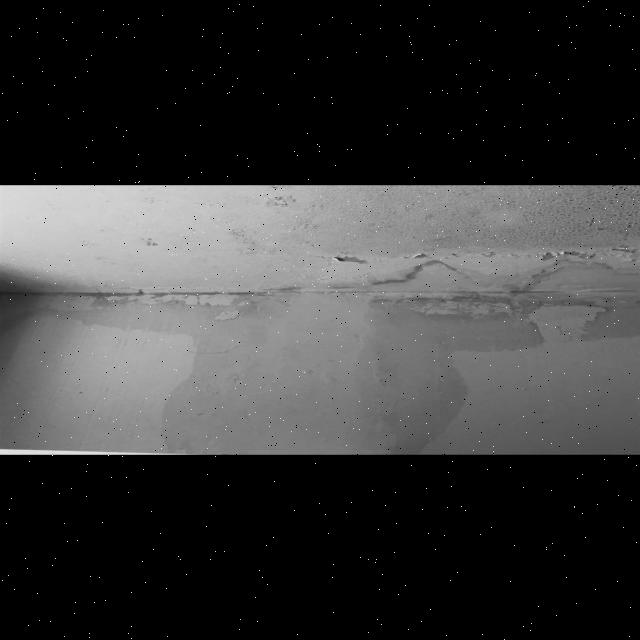stain marks: (1, 288, 640, 449), (190, 186, 640, 289), (69, 224, 166, 276)
